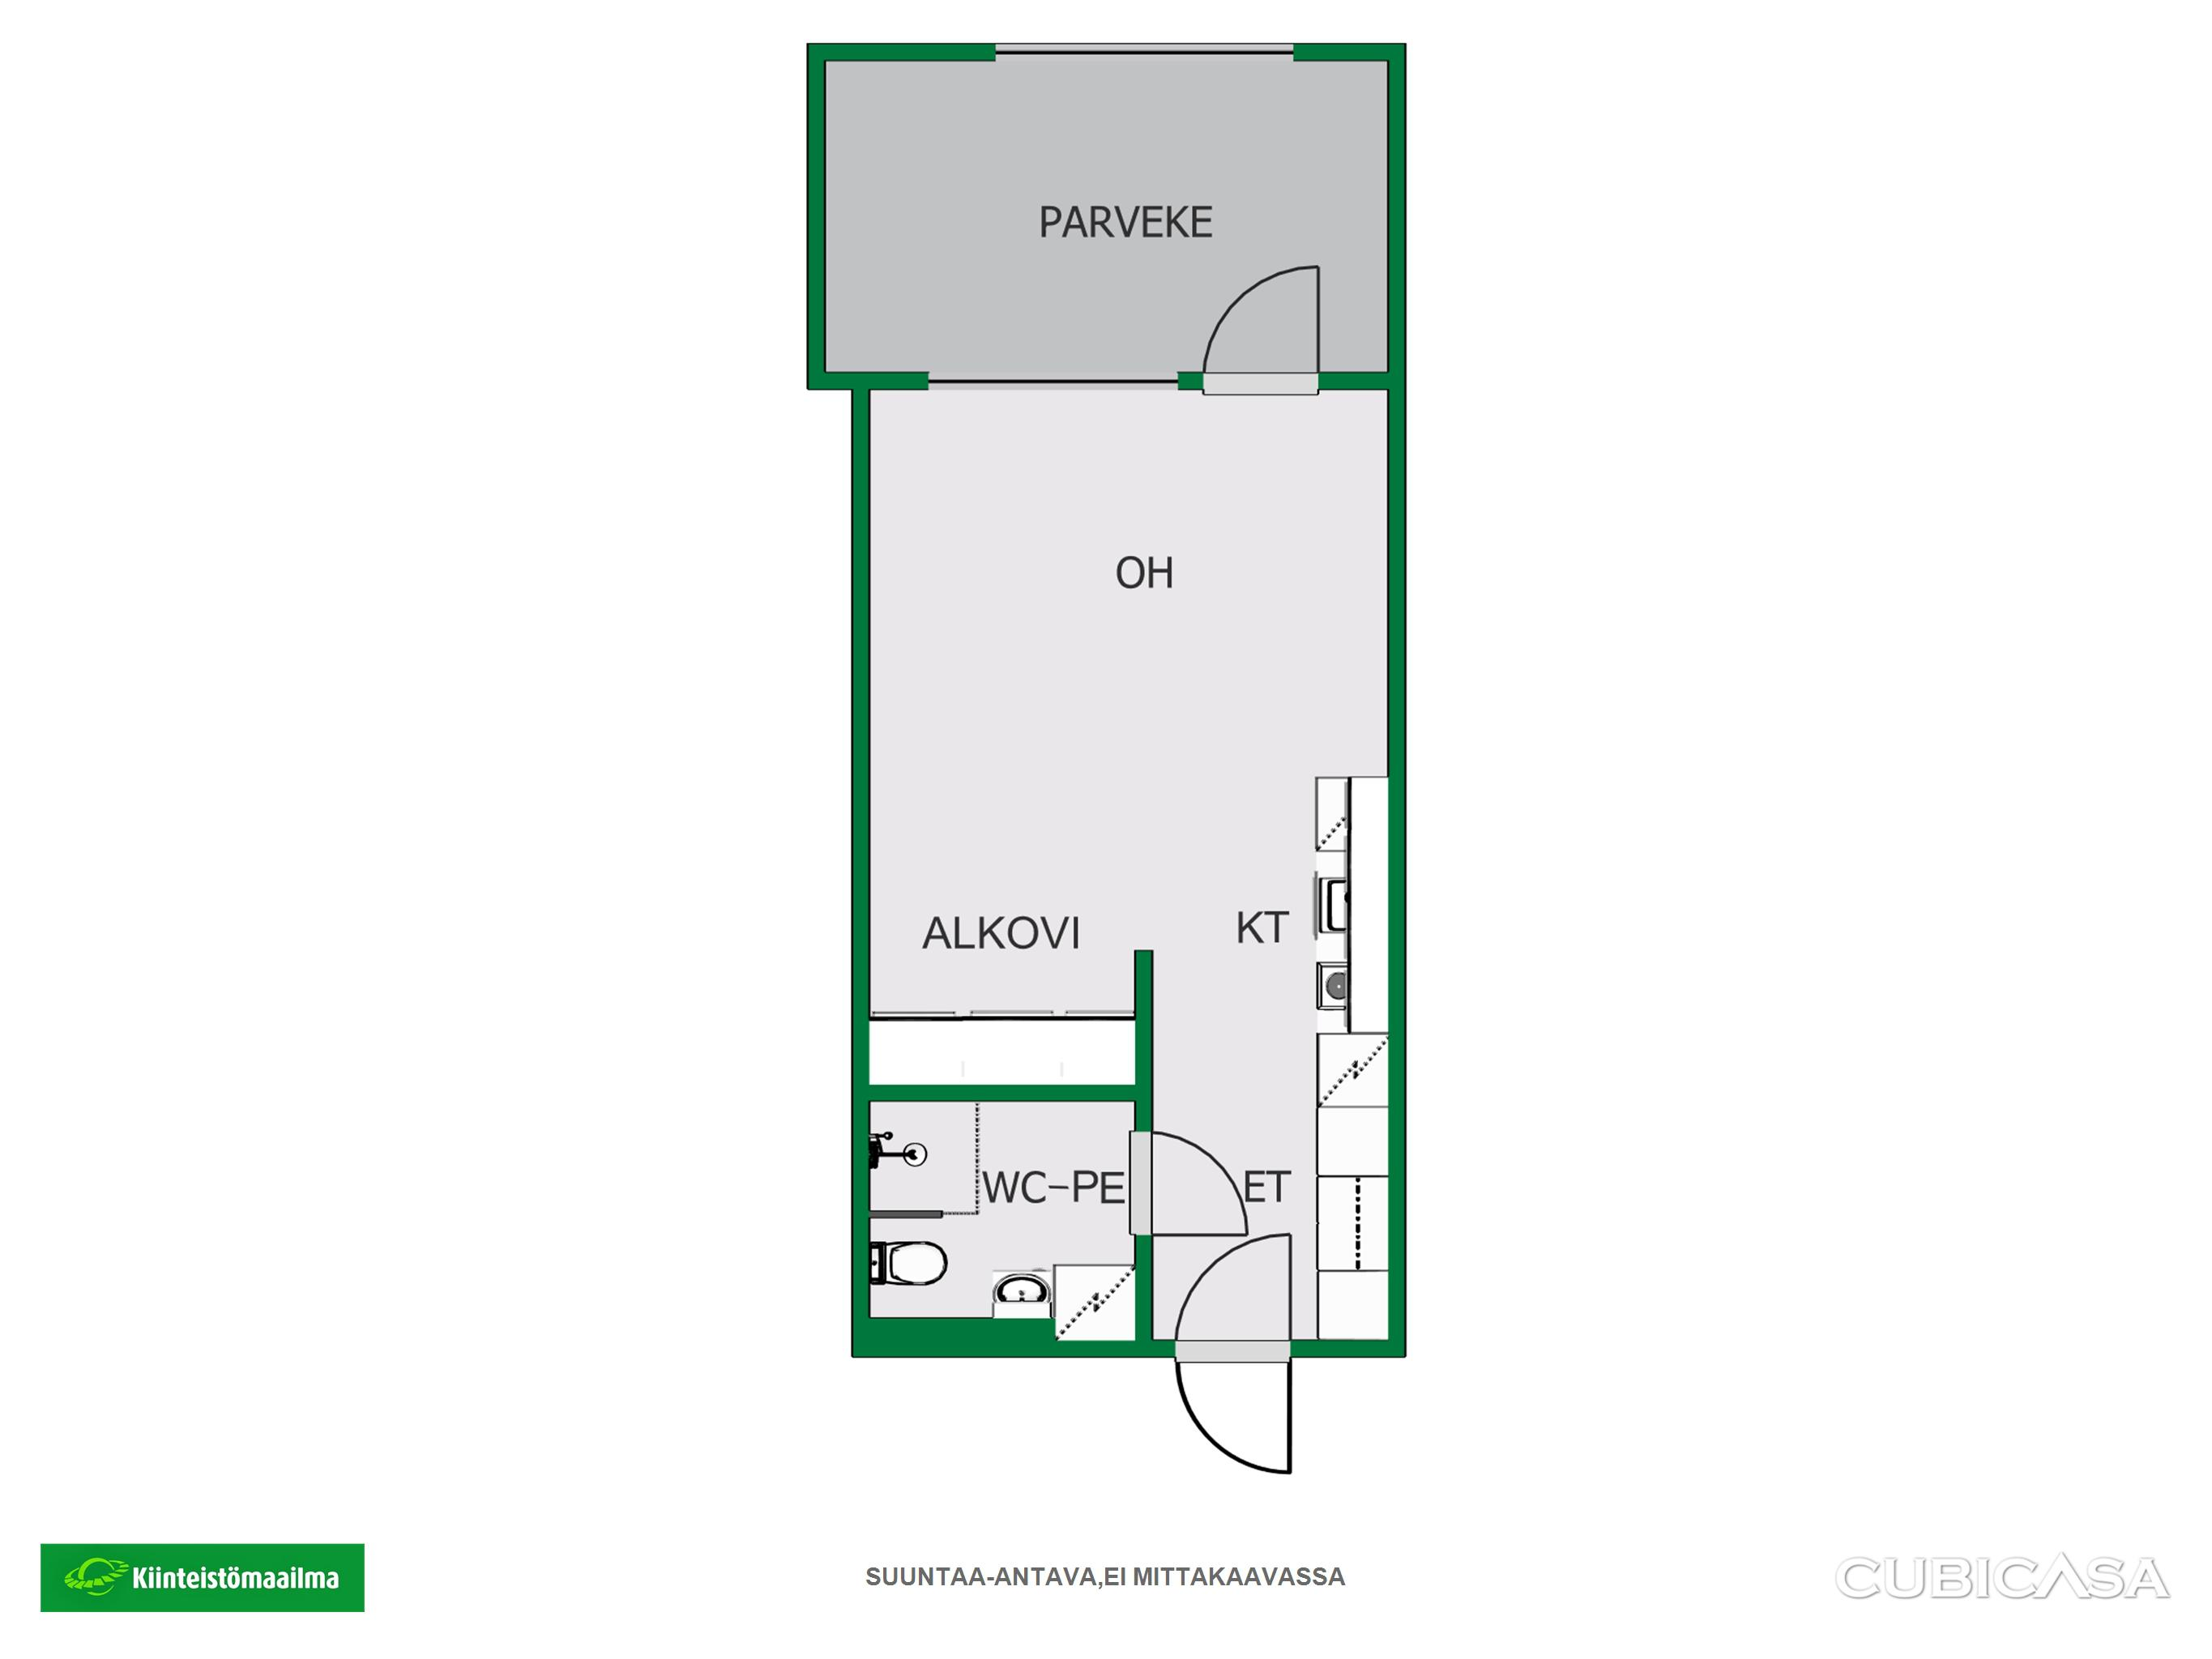bathroom: (866, 1093, 1136, 1325)
door: (1168, 1341, 1302, 1483), (1196, 258, 1326, 399), (1168, 1225, 1298, 1361), (1125, 1121, 1252, 1241)
perimeter: (805, 43, 1407, 1362)
window: (907, 365, 1196, 401), (975, 36, 1309, 66)
